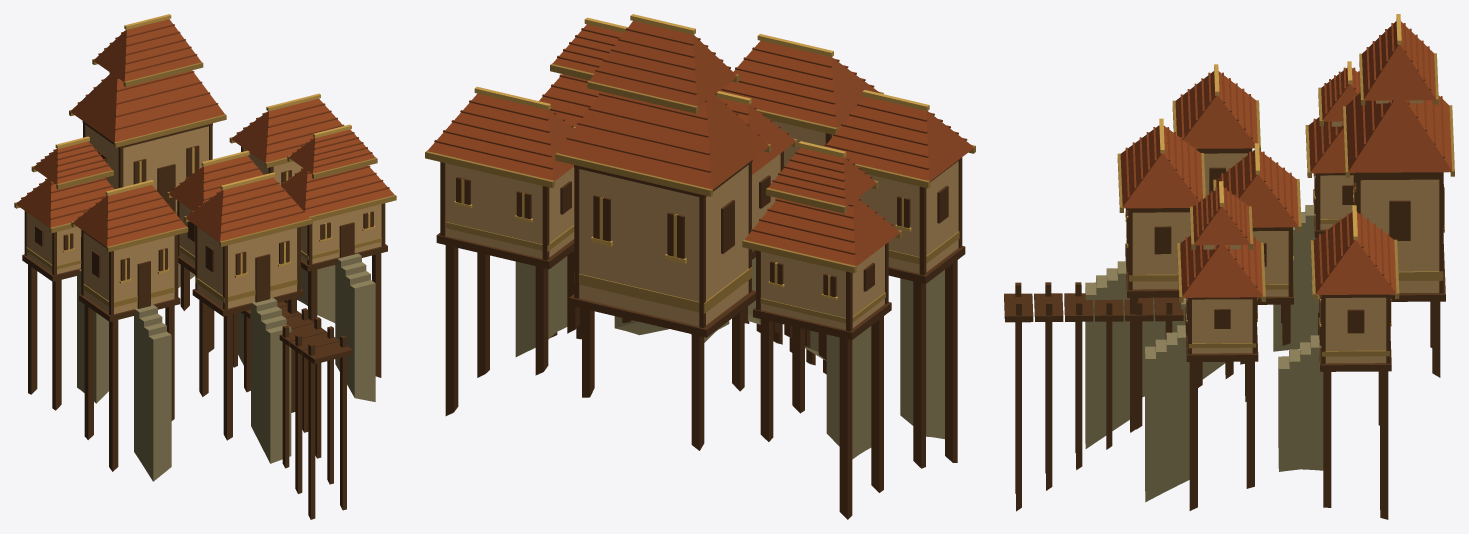
The model's file is manado.obj.
3 renders of one model, left to right at view 1: azimuth 30°, elevation 25°; view 2: azimuth 150°, elevation 25°; view 3: azimuth 270°, elevation 25°, orthographic. The views are drawn at different scales.
Visible parts, largest first — view 1: manado; view 2: manado; view 3: manado.
Part boxes in pixels (x1,y1,x2,y2): manado: [14, 14, 396, 519]; manado: [425, 14, 975, 519]; manado: [1004, 14, 1454, 519].
Size of the model in its own units: 10.05 by 11.88 by 10.5.
